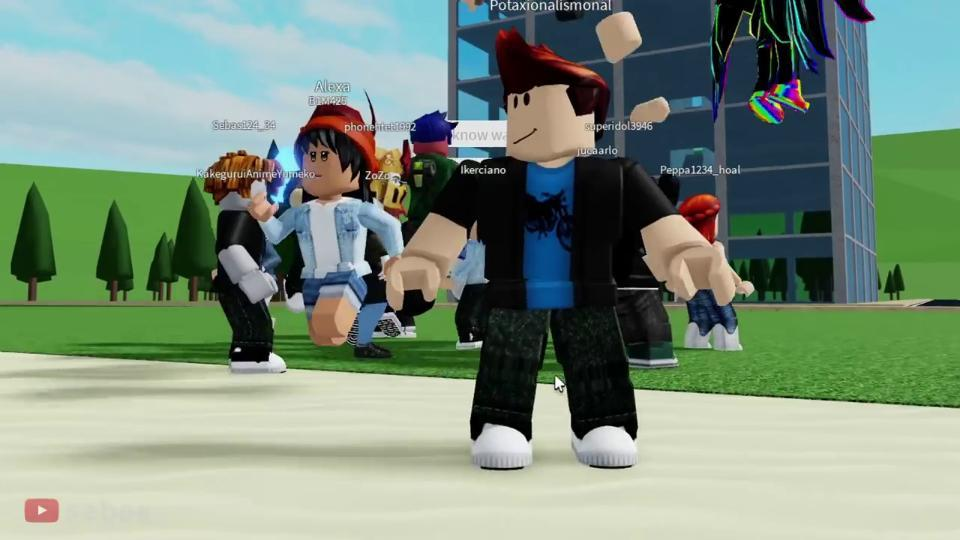Character: (386, 28, 735, 468), (248, 102, 404, 345), (204, 150, 287, 374), (680, 193, 755, 349), (400, 109, 459, 222)
